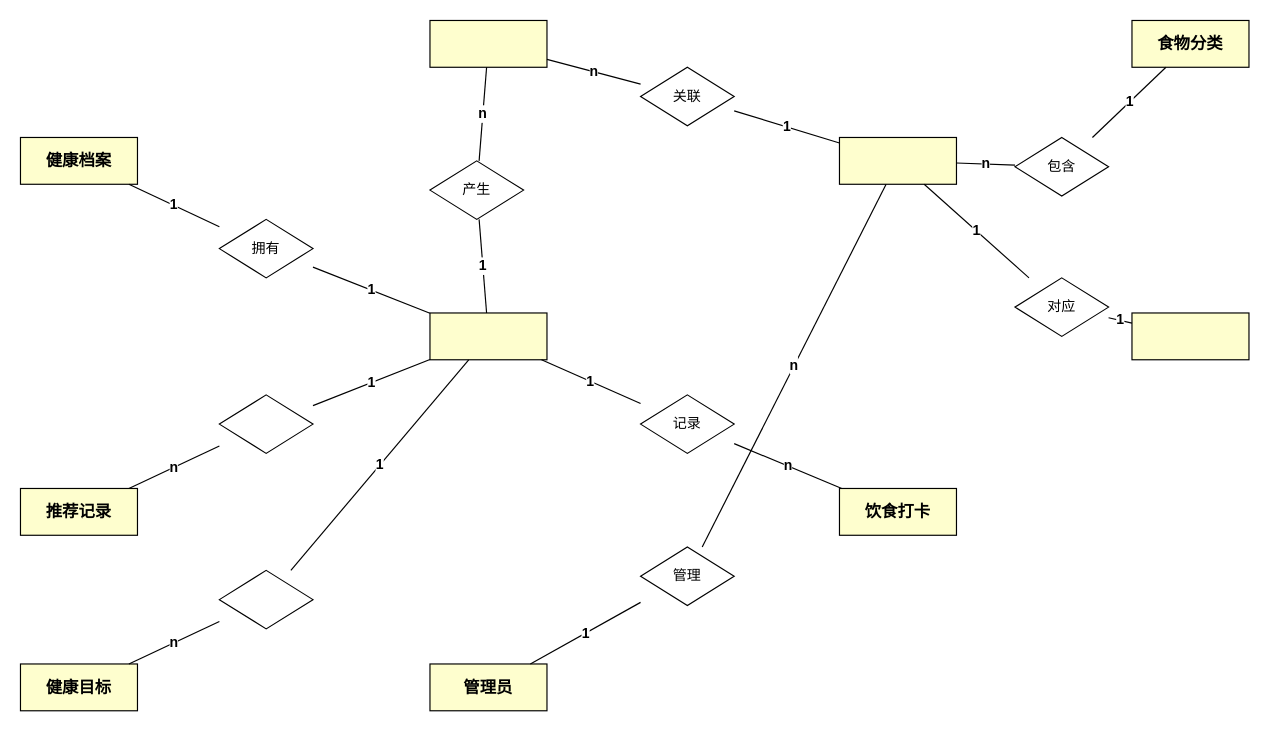
This 1269x731 diagram has some shape labels left out. The centre of each missing label's shape, as x and y in pixels:
"用户" belongs at point 488,336.
"获得" belongs at point 265,423.
"营养信息" belongs at point 1190,336.
"设置" belongs at point 265,599.
"食物信息" belongs at point 897,160.
"饮食记录" belongs at point 488,43.
